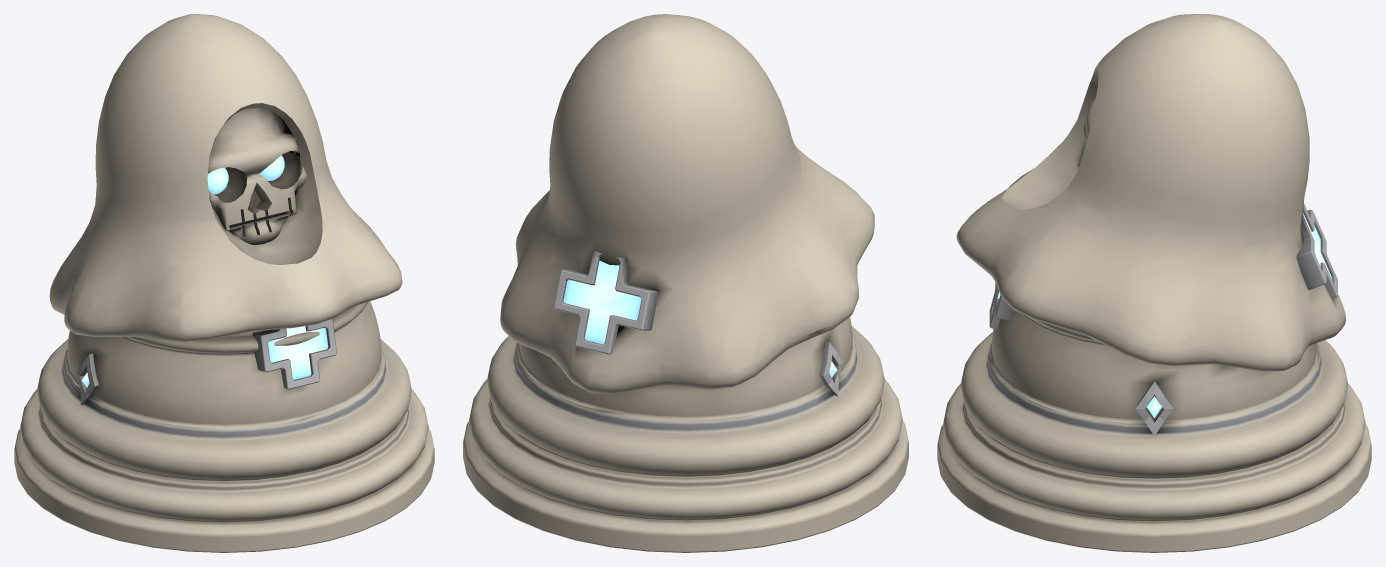
File: wazir.glb
The picture shows the model from 3 angles, left to right: view 1: azimuth 30°, elevation 25°; view 2: azimuth 150°, elevation 25°; view 3: azimuth 270°, elevation 25°; orthographic projection. The views are drawn at different scales.
Visible parts, largest first — view 1: wazir; view 2: wazir; view 3: wazir.
Boxes of the visible parts, left/top/right/bottom form: wazir: left=14, top=14, right=434, bottom=552; wazir: left=463, top=14, right=908, bottom=552; wazir: left=937, top=14, right=1371, bottom=552.
Bounding box in the file's own units: 0.74 × 0.8305 × 0.74.
